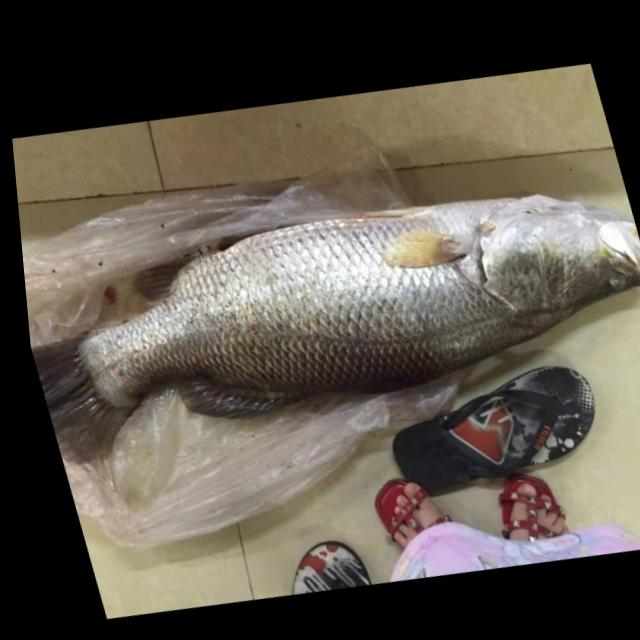Seabass: (12, 137, 640, 509)
